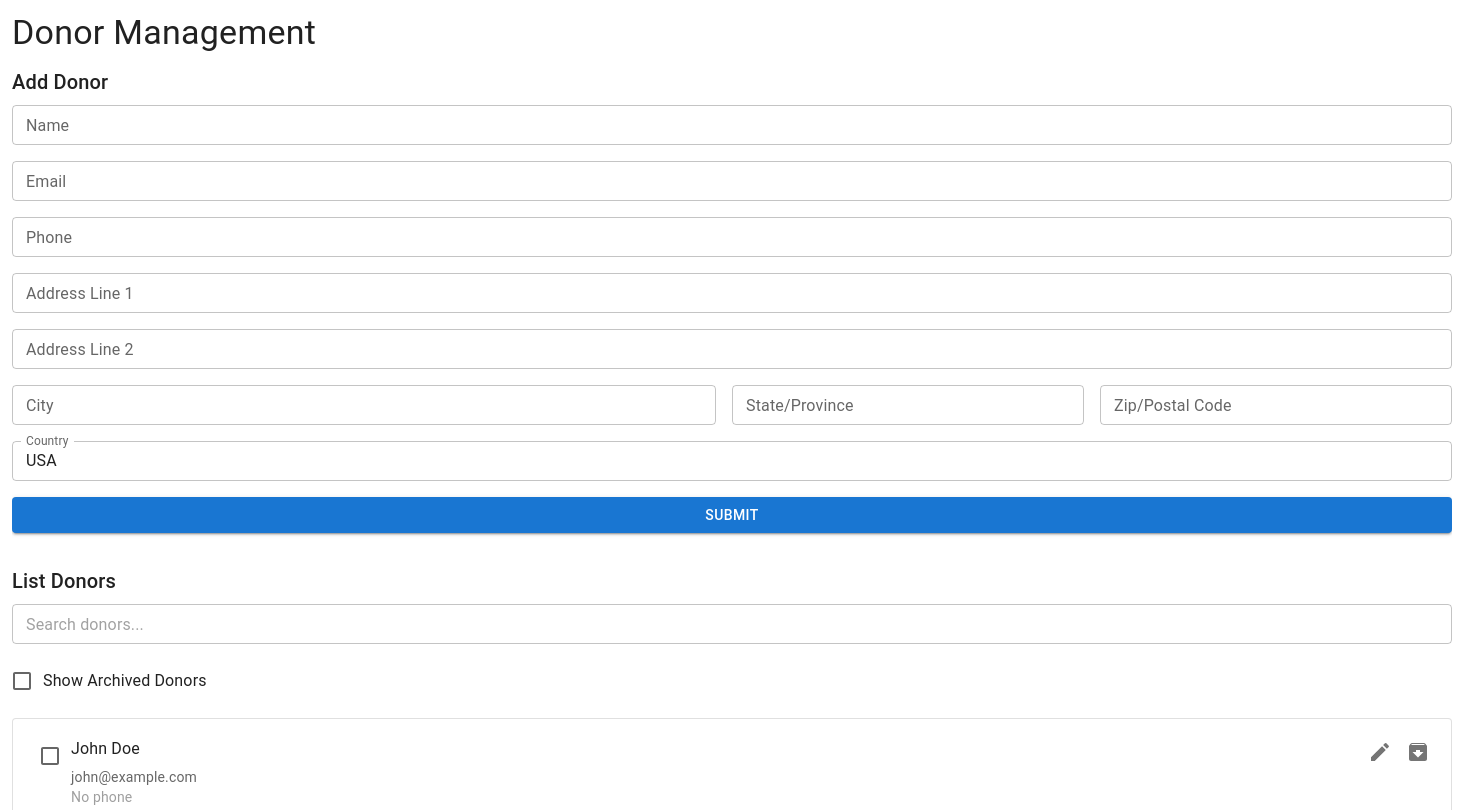
Test: DonorsPage › Archive error handling › shows error snackbar when archive fails with 422
Expected: the text "John Doe" is shown, [71,735,140,763]
// Click archive button
Click the button named "archive" at coordinates (1418, 752), box [1401,735,1435,769]
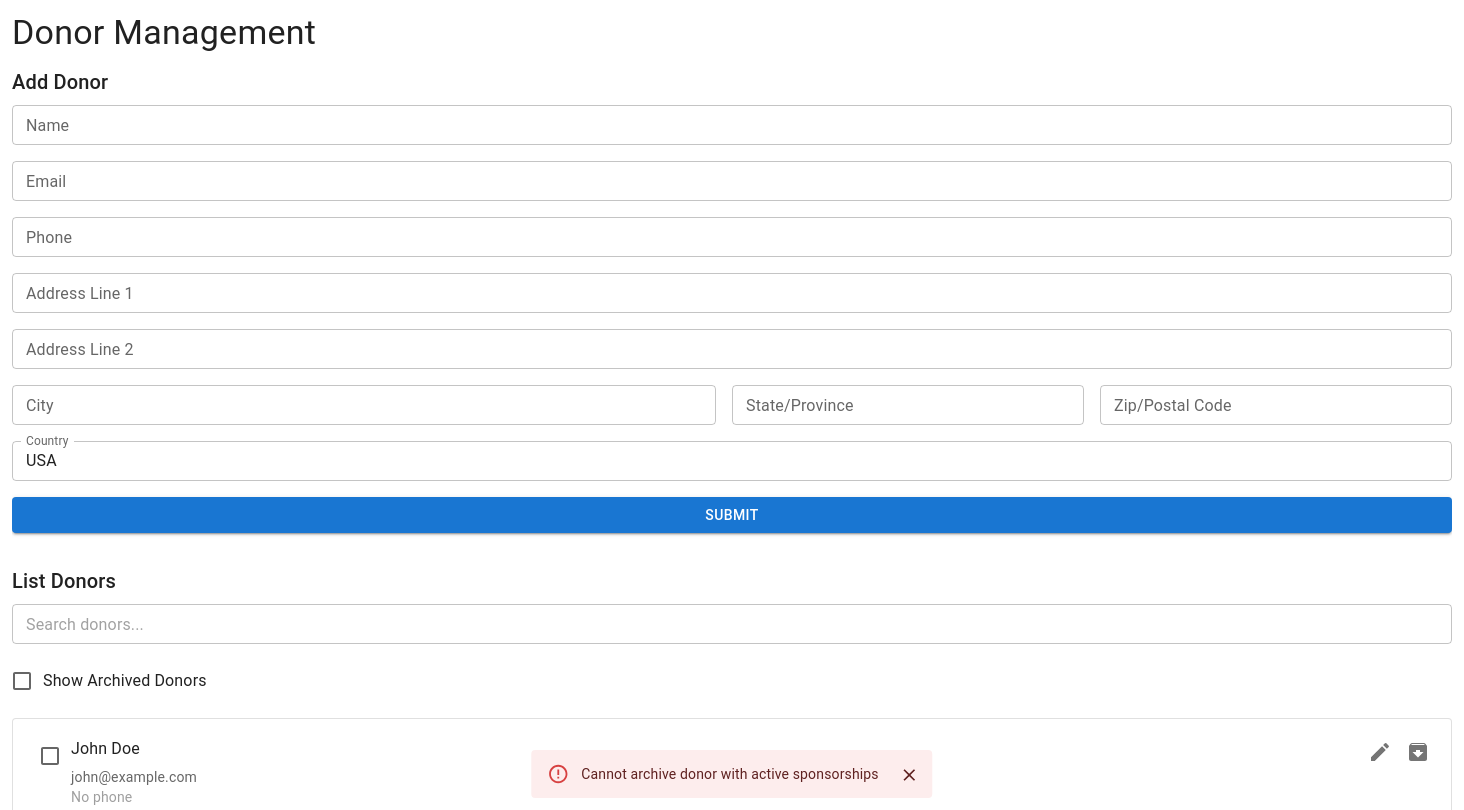
Now the text "Cannot archive donor with active sponsorships" is shown, box [581,766,879,782]
